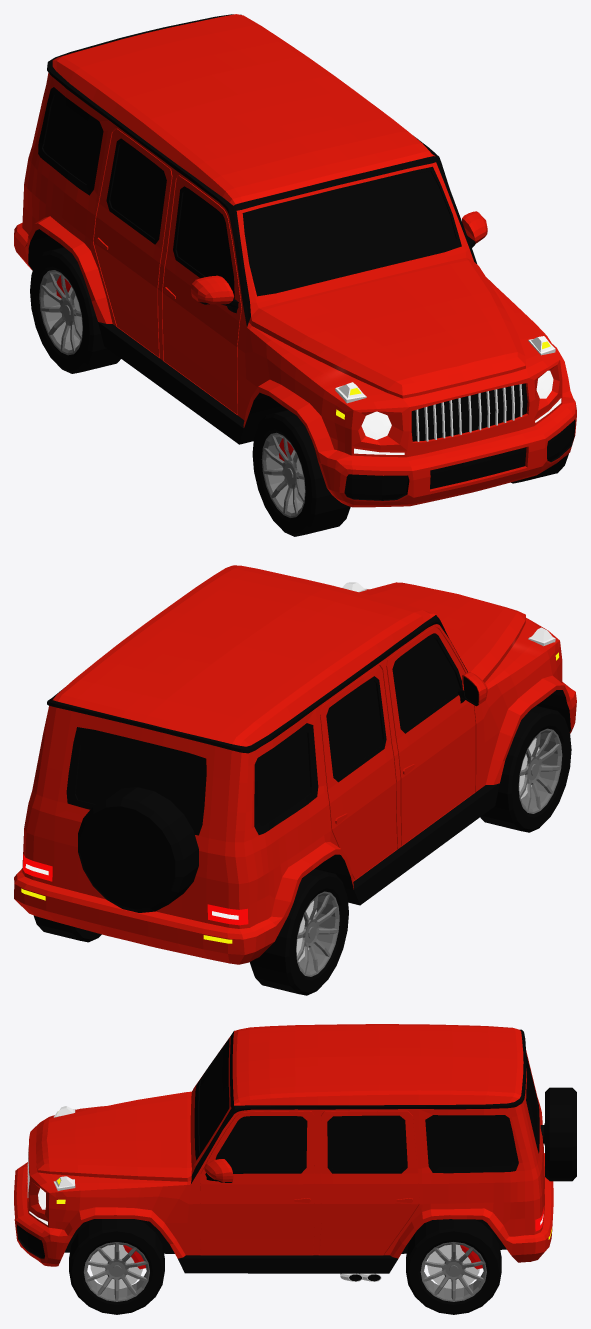
Rendered from g_wagon.glb.
The picture shows the model from 3 angles, top to bottom: view 1: azimuth 30°, elevation 25°; view 2: azimuth 150°, elevation 25°; view 3: azimuth 270°, elevation 25°; orthographic projection. The views are drawn at different scales.
Parts seen in each view (by area): view 1: carBody, wheelFR, wheelBR; view 2: carBody, wheelBR, wheelFR, wheelBL; view 3: carBody, wheelBL, wheelFL.
Part boxes in pixels (<box>): carBody: <box>14,14,576,507</box>; wheelFR: <box>252,410,350,536</box>; wheelBR: <box>30,247,120,373</box>; carBody: <box>14,565,576,964</box>; wheelBR: <box>250,869,348,995</box>; wheelFR: <box>480,705,571,832</box>; wheelBL: <box>33,915,101,942</box>; carBody: <box>14,1024,576,1281</box>; wheelBL: <box>406,1219,501,1314</box>; wheelFL: <box>69,1219,164,1314</box>.
Bounding box in the file's own units: 2.14 × 1.99 × 4.78.
Materials: 1 (1 with a texture image).
